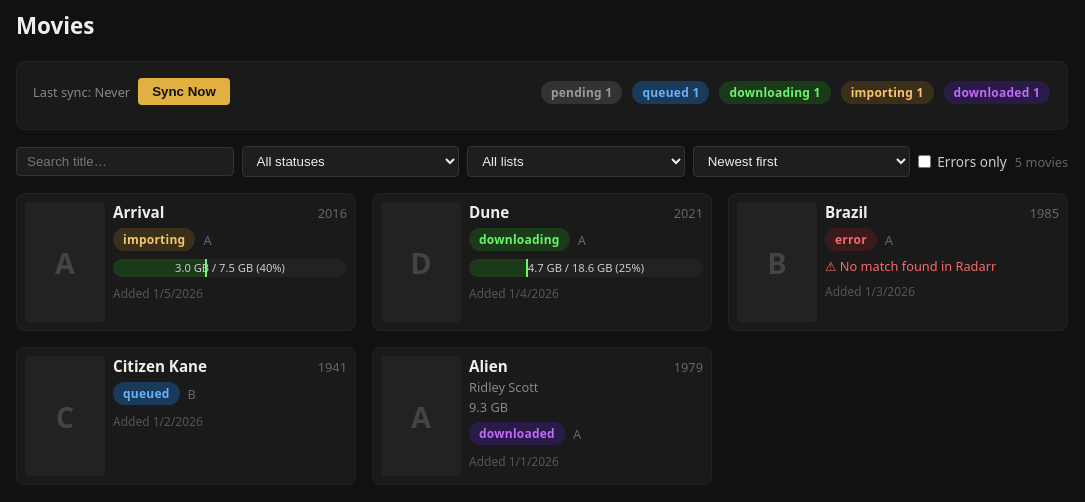
list dropdown filters the grid client-side
Expected: the text "Alien" is shown, left=469, top=356, right=508, bottom=376
Select "B" in the 2nd dropdown showing "All lists" at (576, 162), box left=467, top=146, right=685, bottom=177
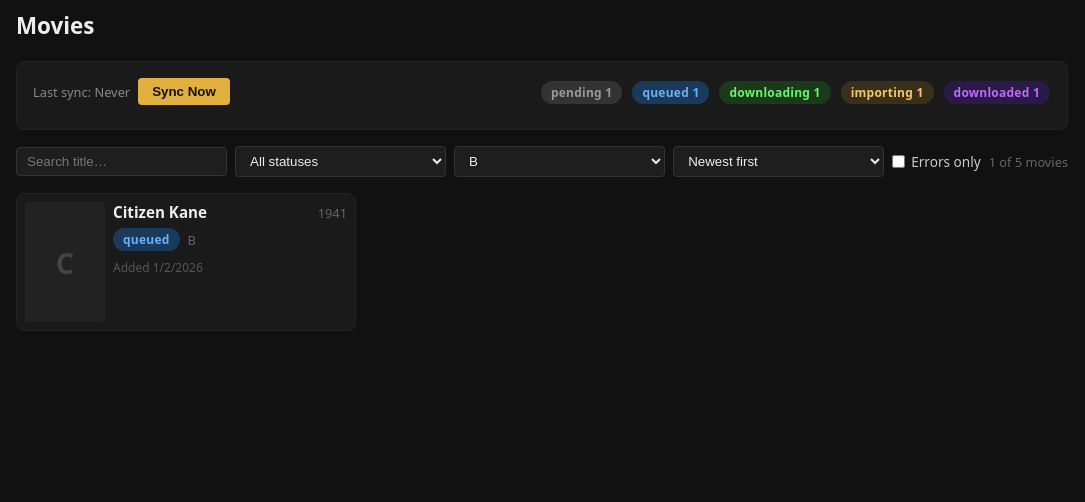
Expected: the text "Citizen Kane" is shown, left=113, top=202, right=207, bottom=222
Now the text "Alien" is gone
